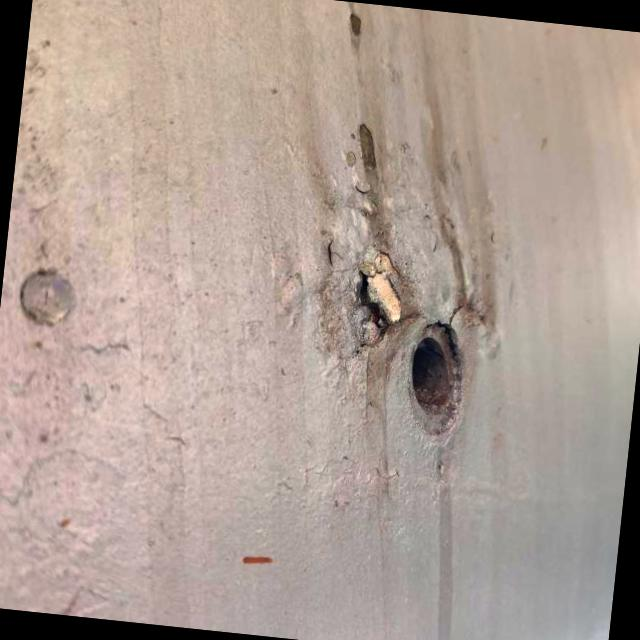crack: (318, 225, 449, 374)
